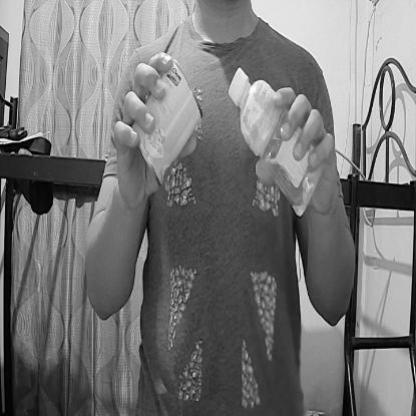Plastic Bottle: (227, 62, 328, 220)
